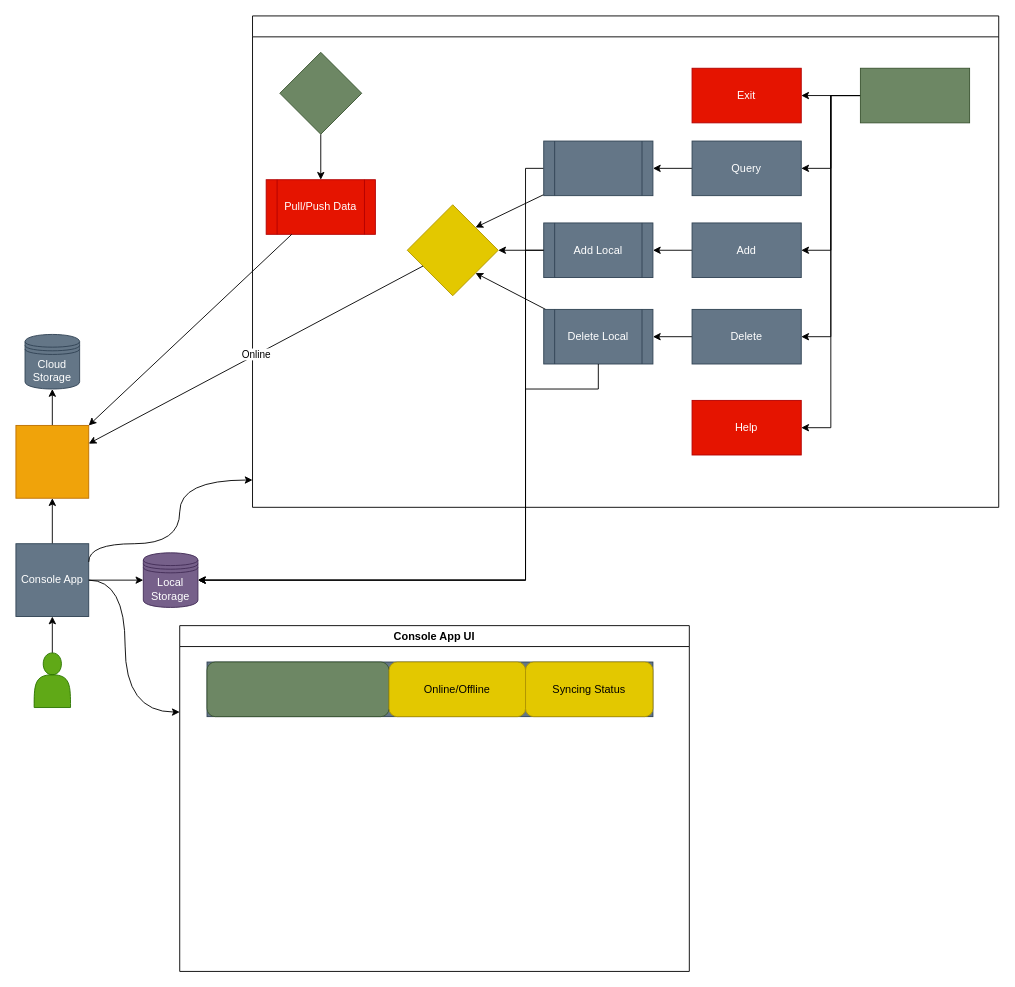
Some shapes in this 1015 by 987 pixel diagram are drawn without their labels. The box of each missing label's shape, as (x1, y1, x2, y2) in pixels:
**Syncing**: (279, 51, 362, 134)
API: (15, 425, 89, 498)
Console App Data Flow: (252, 15, 999, 507)
Offline/Online Status: (406, 204, 498, 296)
Query Local: (543, 140, 653, 196)
Search: (859, 67, 970, 123)
Title: (206, 661, 389, 717)
